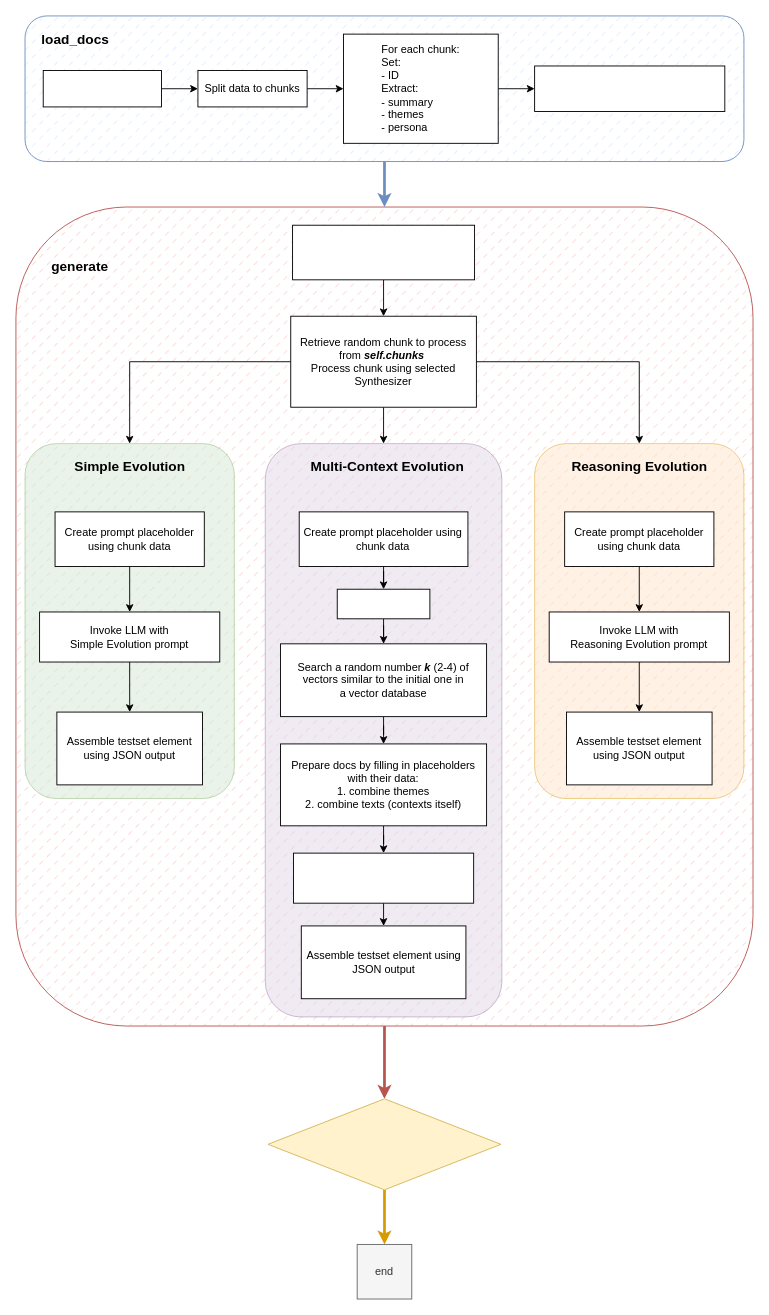
Image size: 769x1315. Some labels were removed from this diagram. Each missing label, with the centre of its shape:
Count runs for each Synthesizer according to percentage: point (383, 252)
Invoke chain: point (383, 603)
Invoke LLM with Multi-Context Evolution prompt: point (383, 877)
Load files from device: point (102, 88)
Save to file: point (384, 1144)
Save to Qdrant Save to class var self.chunks: point (629, 88)
